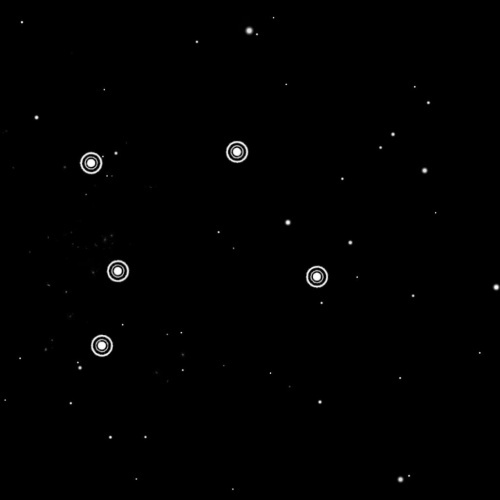libra: (70, 135, 332, 366)
